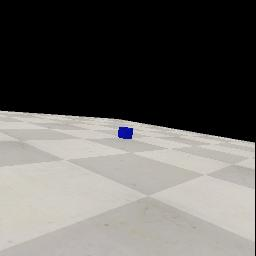box: (118, 127, 133, 139)
